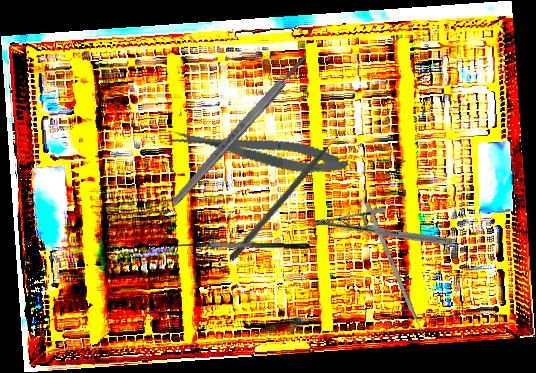Micro Scissor: (167, 118, 351, 182)
Needle Holder: (310, 175, 454, 289)
Pusher: (227, 124, 351, 263), (364, 202, 431, 349)
Scalpel Handle: (167, 51, 312, 209)
Spatula Surgical: (171, 237, 311, 261)
